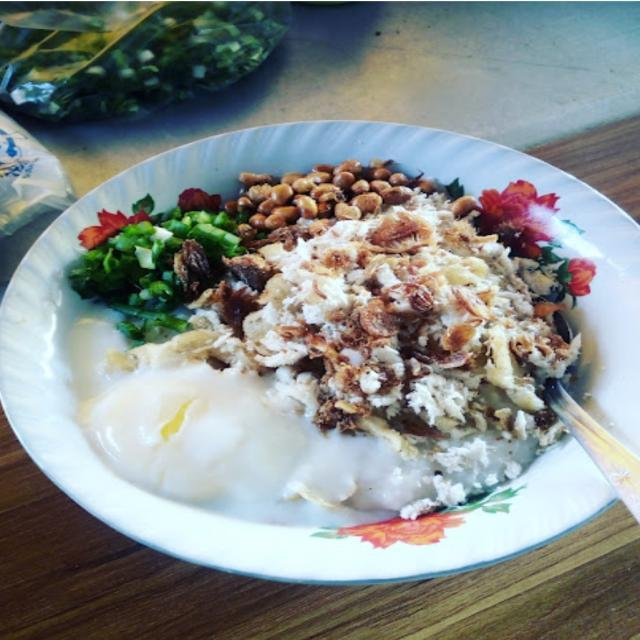bubur ayam: (49, 158, 582, 532)
mangkuk: (0, 116, 640, 588)
